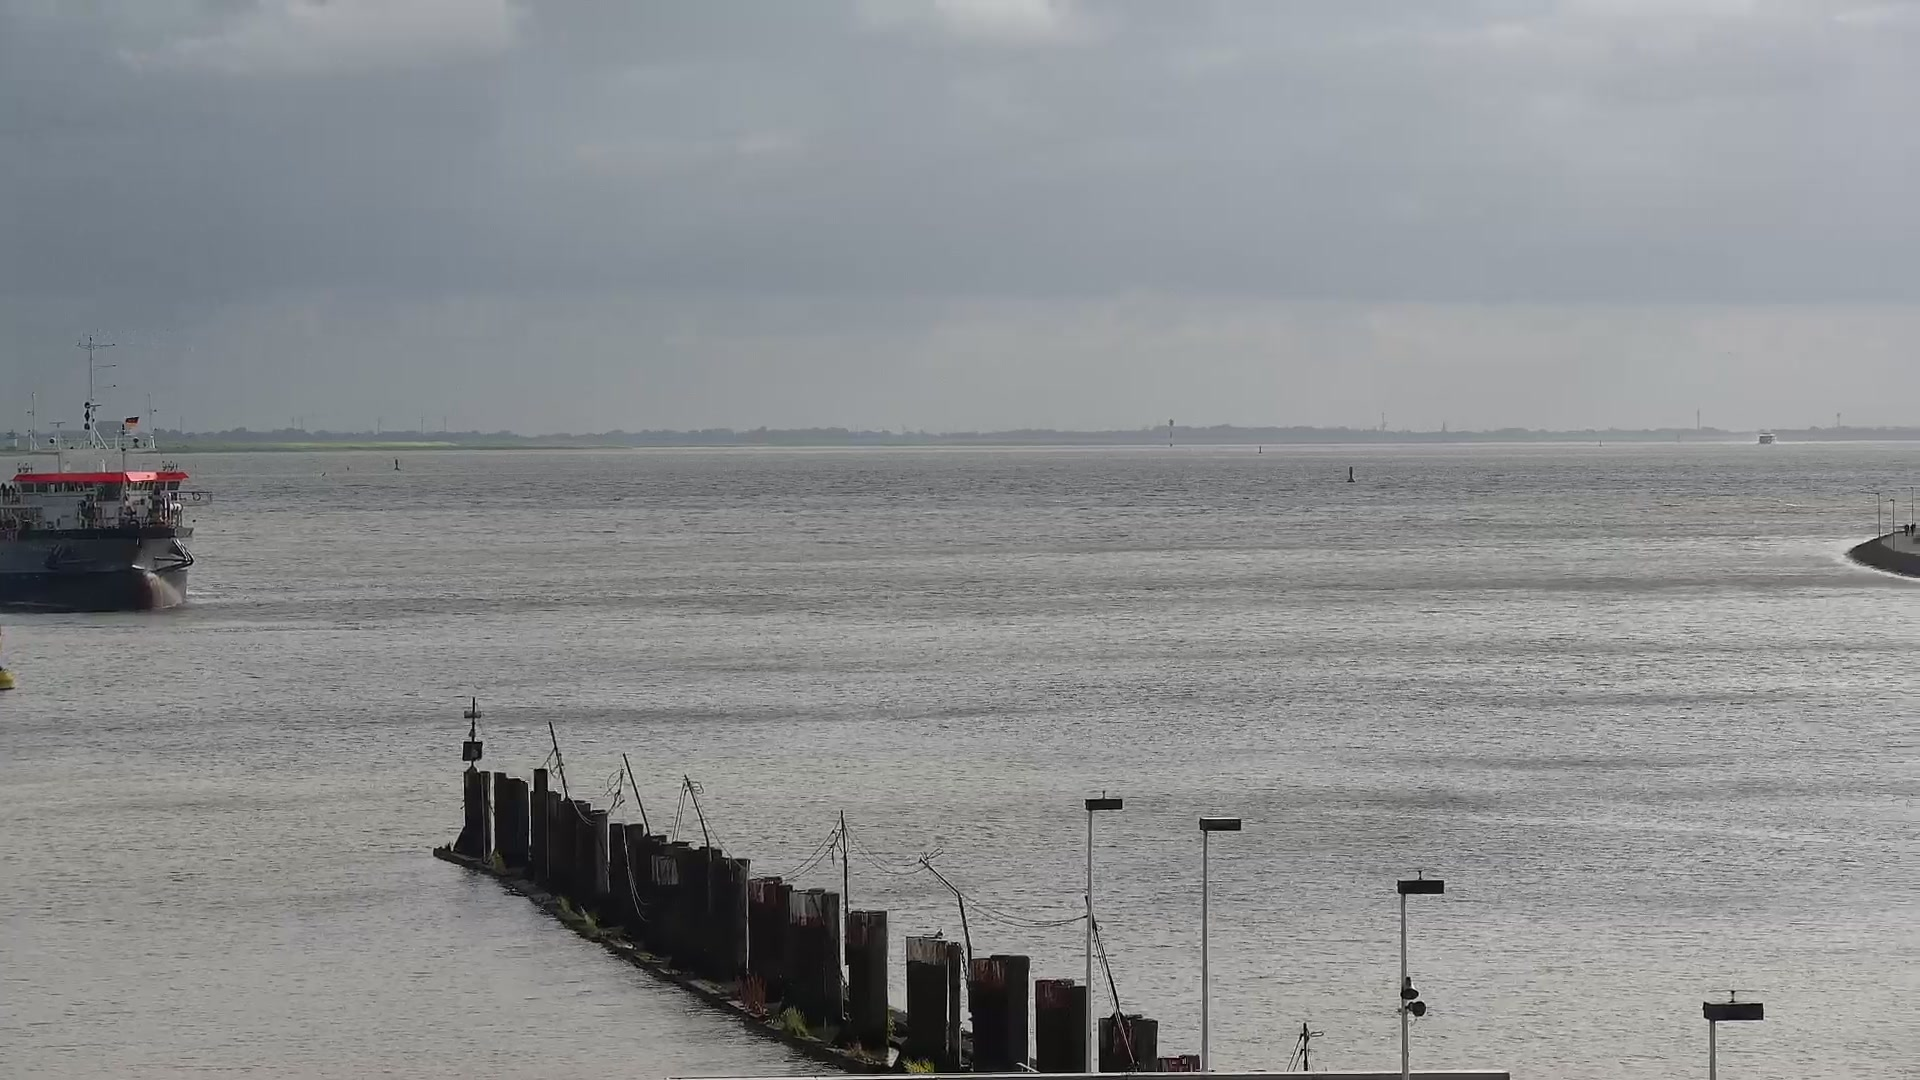human: (1904, 522, 1910, 537), (1910, 522, 1915, 536)
sea: (1, 330, 212, 612), (1758, 431, 1776, 445)
